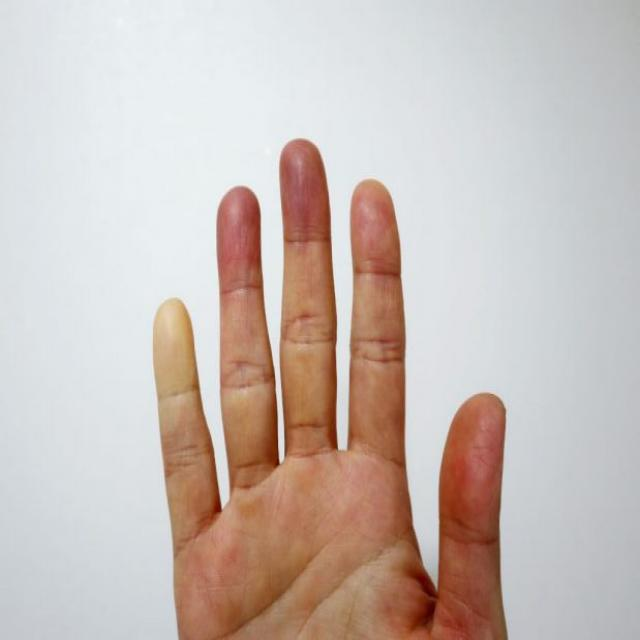raynauds: (135, 291, 245, 534)
